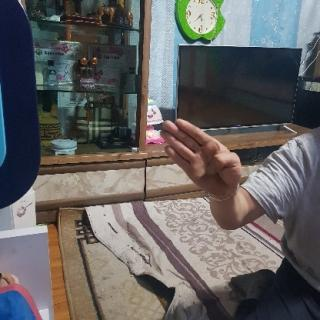KAAF: (156, 115, 247, 203)
